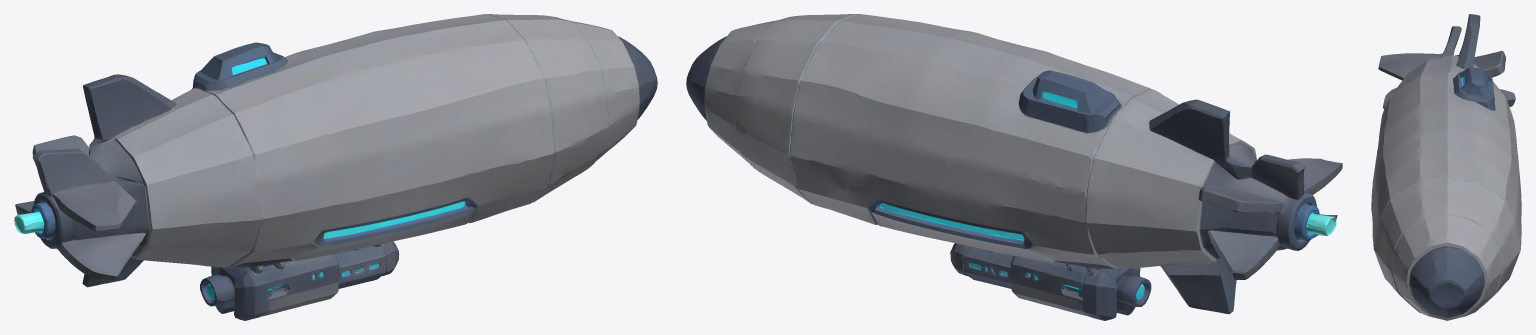
3 renders of one model, left to right at view 1: azimuth 30°, elevation 25°; view 2: azimuth 150°, elevation 25°; view 3: azimuth 270°, elevation 25°, orthographic. The views are drawn at different scales.
Visible parts, largest first — view 1: Mesh; view 2: Mesh; view 3: Mesh.
Part boxes in pixels (bbox=[...]): Mesh: bbox=[14, 14, 657, 320]; Mesh: bbox=[686, 14, 1342, 320]; Mesh: bbox=[1371, 14, 1521, 320].
Bounding box in the file's own units: 1.89 × 0.7089 × 0.5204.
1 material, 1 textured.
